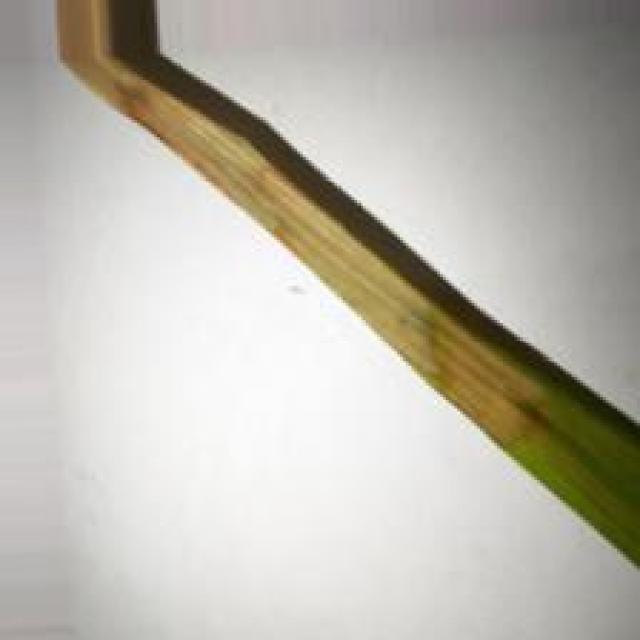Leaf_Scald: (58, 0, 560, 446)
